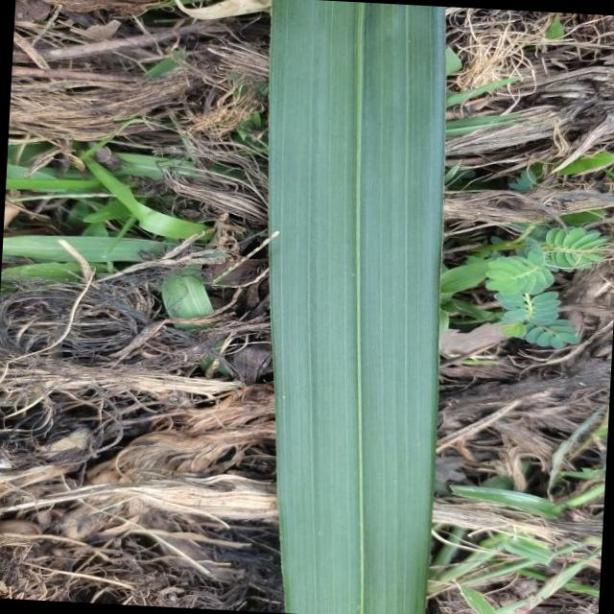Healthy: (265, 0, 443, 614)
